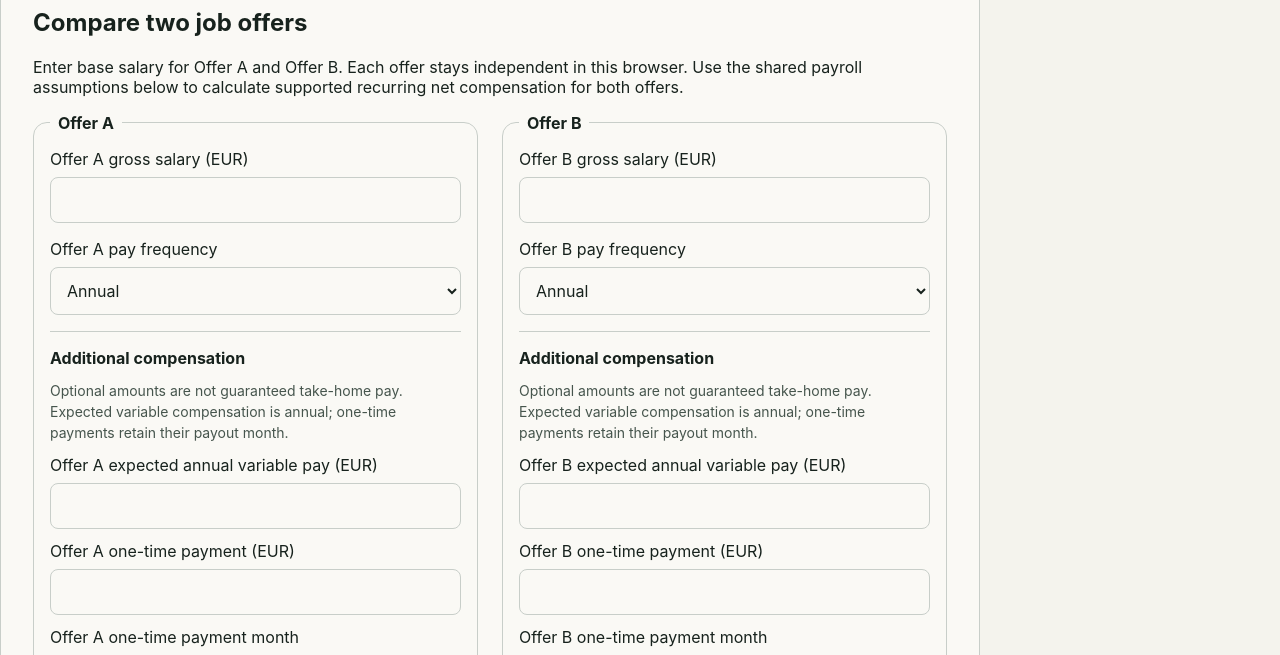
independent remote-work admission › accepts a complete schedule with arrangement onsite and no commute inputs
The image size is (1280, 655).
Type "50000" into the field labelled "Offer A gross salary (EUR)" at coordinates (256, 200), box [50,177,461,223]
Type "60000" into the field labelled "Offer B gross salary (EUR)" at coordinates (724, 200), box [519,177,930,223]
(page scrolled)
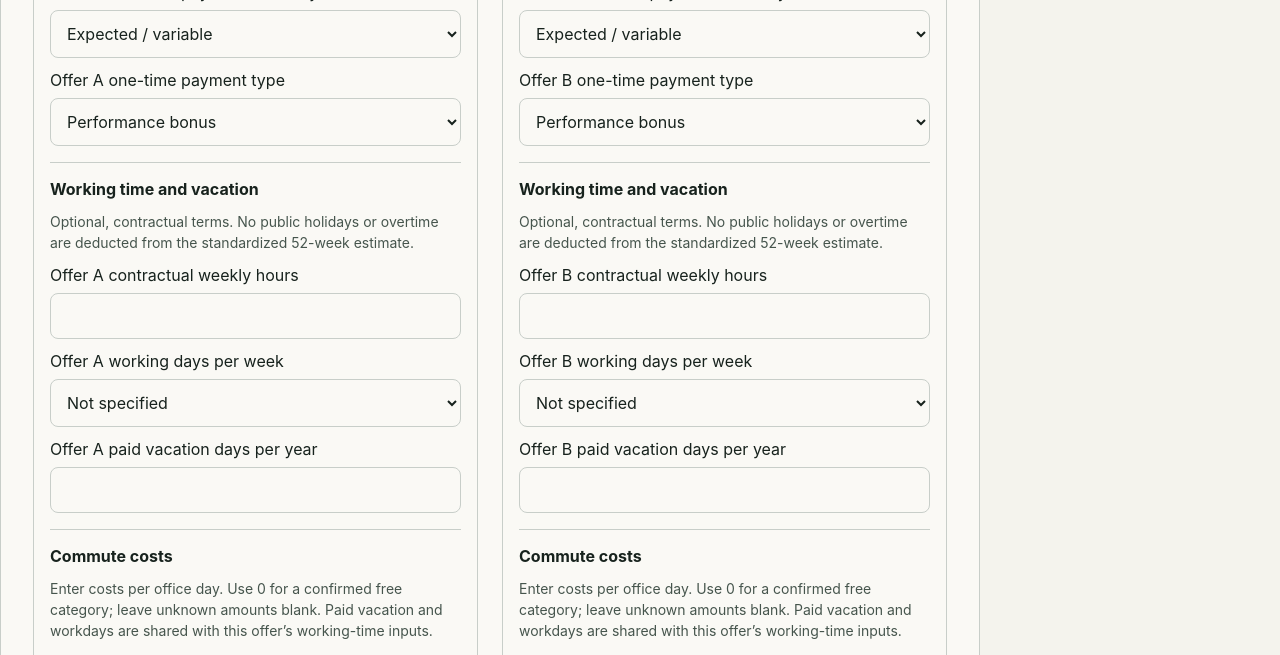
Type "40" into the field labelled "Offer A contractual weekly hours" at coordinates (256, 316), box [50,293,461,339]
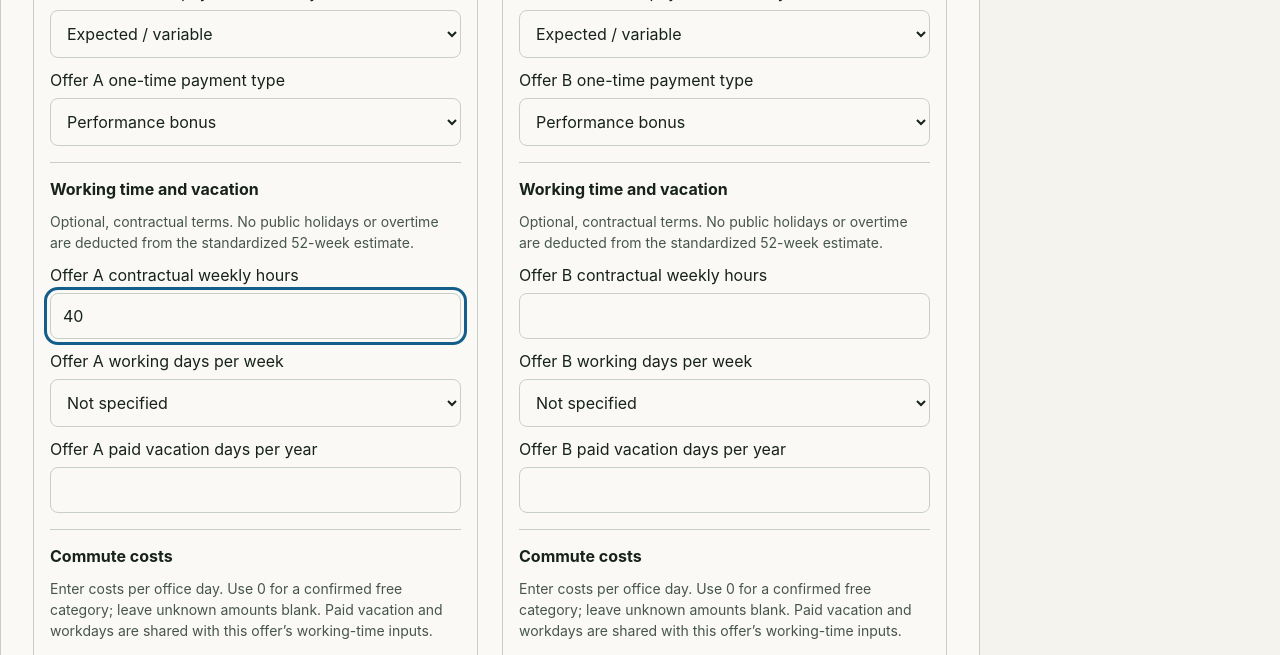
Select "5" in the dropdown labelled "Offer A working days per week" at coordinates (256, 403), box [50,379,461,427]
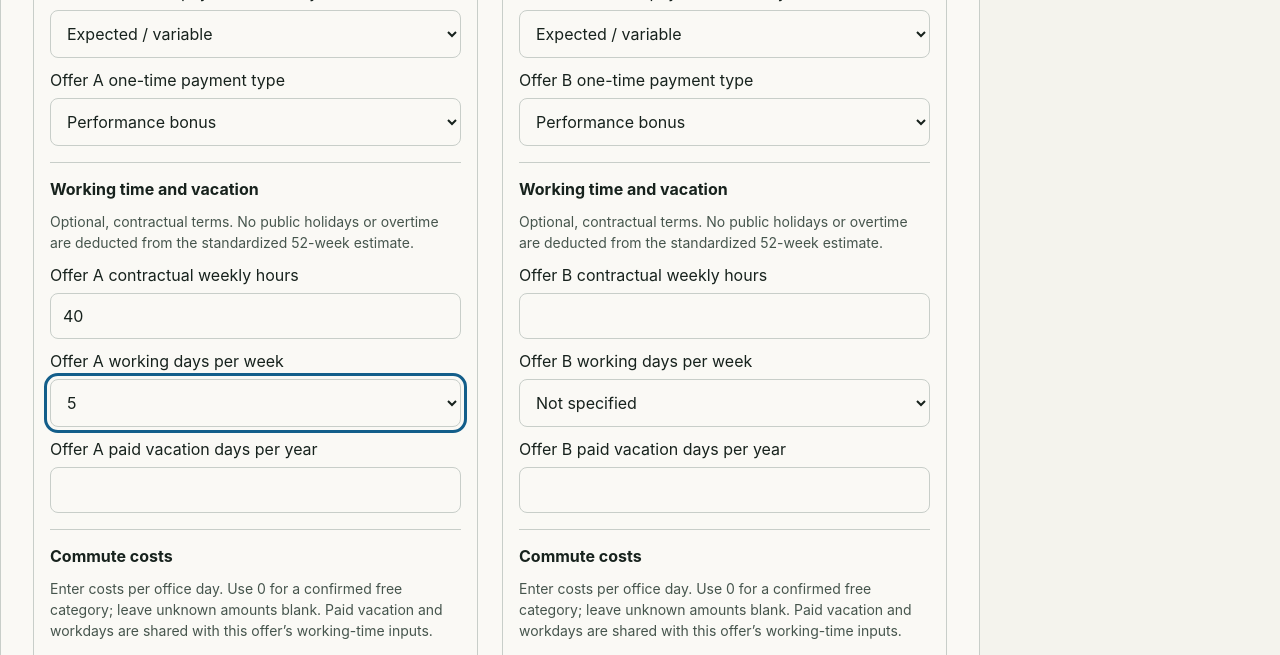
Type "30" into the field labelled "Offer A paid vacation days per year" at coordinates (256, 490), box [50,467,461,513]
(page scrolled)
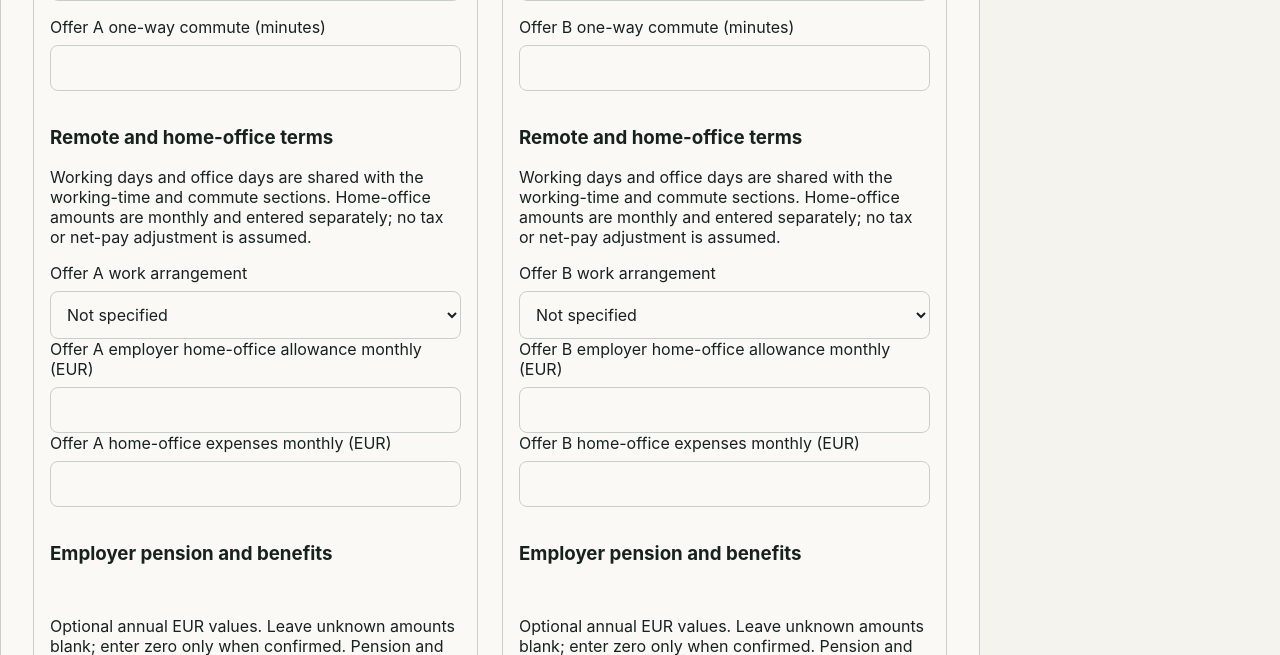
Select "On-site" in the dropdown labelled "Offer A work arrangement" at coordinates (256, 315), box [50,291,461,339]
(page scrolled)
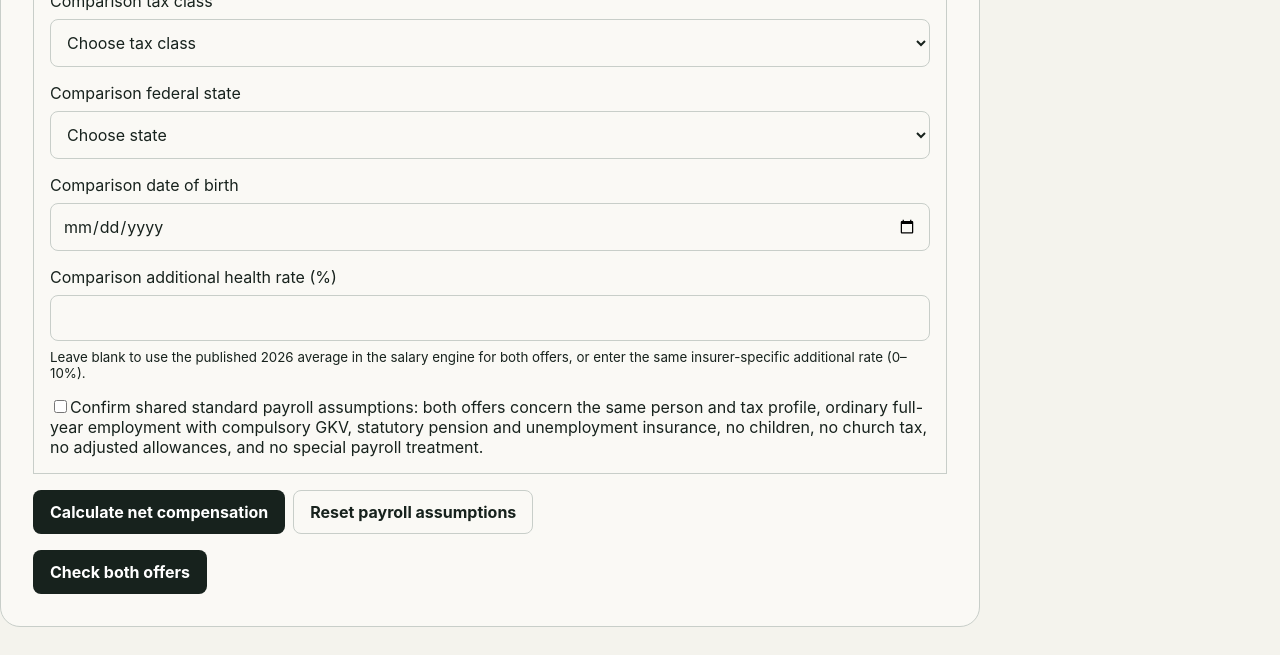
Click the button "Check both offers" at coordinates (120, 572), box [33,550,207,594]
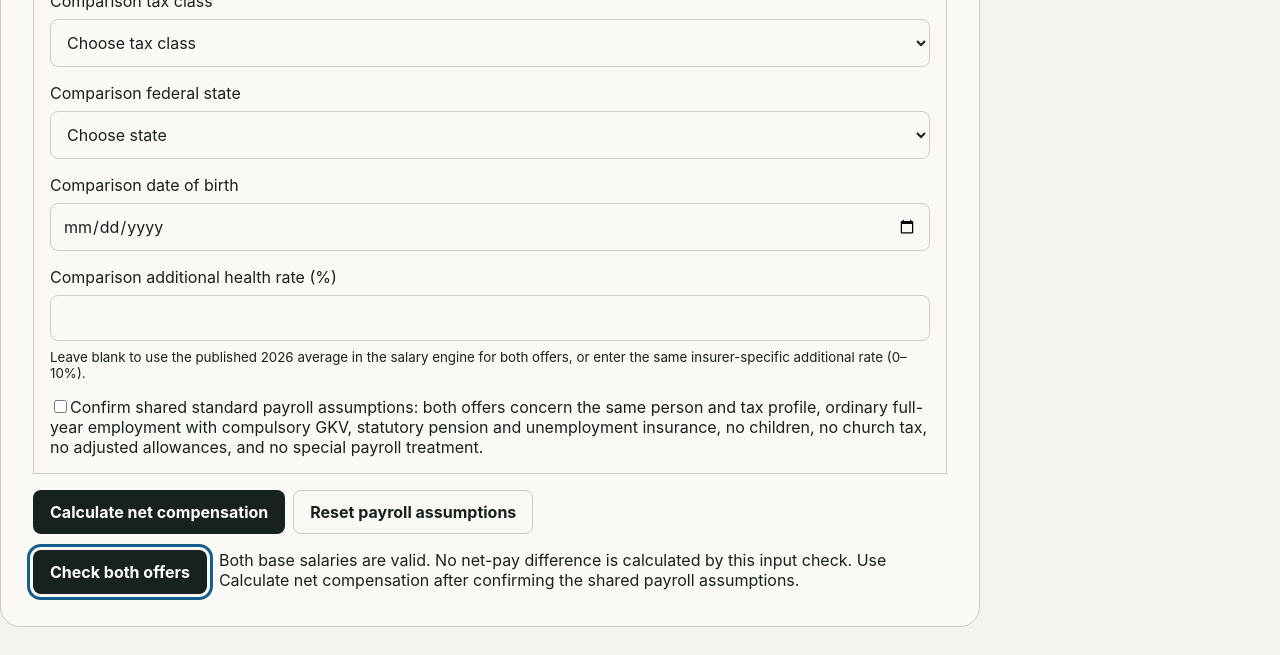
Check: the message shows "Both base salaries are valid", box [219,550,886,590]
